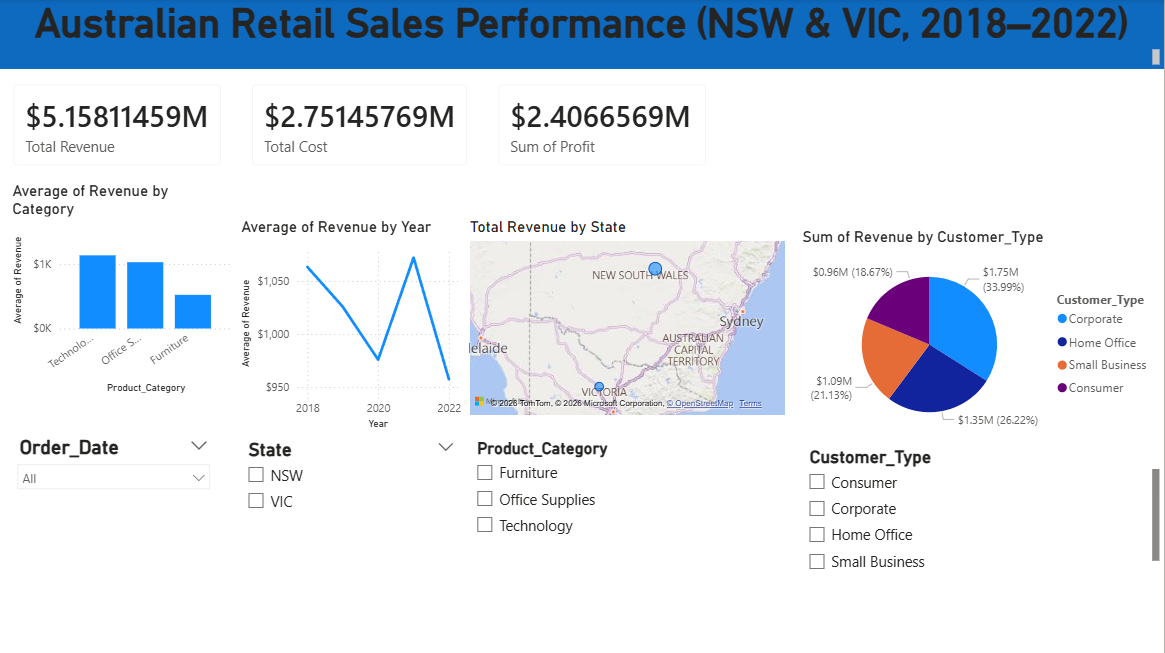

The dashboard page shown, as its layout file describes it:
{"tool":"powerbi","page":{"name":"Sales Overview","canvas":[1280,720],"ordinal":0},"visuals":[{"type":"cardVisual","fields":{"Data":["Sum(vw_Retail_Clean.Revenue)"]},"box":[0,76.8,262.1,123.5],"z":0},{"type":"textbox","title":"Australian Retail Sales Performance (NSW & VIC, 2018–2022)","box":[0,0,1280.3,76.8],"z":1000},{"type":"cardVisual","fields":{"Data":["Sum(vw_Retail_Clean.Cost)"]},"box":[262.1,76.8,270.3,123.5],"z":2000},{"type":"cardVisual","fields":{"Data":["Sum(vw_Retail_Clean.Profit)"]},"box":[532.4,76.8,262.1,123.5],"z":3000},{"type":"clusteredColumnChart","title":"Average of Revenue by Category","fields":{"Category":["vw_Retail_Clean.Product_Category"],"Y":["Avg(vw_Retail_Clean.Revenue)"]},"box":[11,200.3,251.1,237.4],"z":4000},{"type":"lineChart","fields":{"Category":["vw_Retail_Clean.Order_Date.Variation.Date Hierarchy.Year","vw_Retail_Clean.Order_Date.Variation.Date Hierarchy.Quarter","vw_Retail_Clean.Order_Date.Variation.Date Hierarchy.Month","vw_Retail_Clean.Order_Date.Variation.Date Hierarchy.Day"],"Y":["Avg(vw_Retail_Clean.Revenue)"]},"box":[262.1,240.1,251.1,237.4],"z":5000},{"type":"map","title":"Total Revenue by State","fields":{"Category":["vw_Retail_Clean.State"],"Size":["Sum(vw_Retail_Clean.Revenue)"]},"box":[513.2,240.1,355.4,220.9],"z":6000},{"type":"pieChart","fields":{"Category":["vw_Retail_Clean.Customer_Type"],"Y":["Sum(vw_Retail_Clean.Revenue)"]},"box":[877.9,251.1,402.1,236],"z":6001},{"type":"slicer","fields":{"Values":["vw_Retail_Clean.Order_Date"]},"box":[11,474.8,231.9,148.2],"z":6002},{"type":"slicer","fields":{"Values":["vw_Retail_Clean.State"]},"box":[262.1,477.5,251.1,145.5],"z":6003},{"type":"slicer","fields":{"Values":["vw_Retail_Clean.Customer_Type"]},"box":[878.2,487.1,402.1,146.8],"z":6005},{"type":"slicer","fields":{"Values":["vw_Retail_Clean.Product_Category"]},"box":[513,478,355,150],"z":6006}]}

Visuals, with their boxes in screenshot pixels (x1, y1, x2, y2), scaled from the page's 1280x720 canvas onto the 1165x653 screenshot:
cardVisual - Sum(vw_Retail_Clean.Revenue): bbox=[0, 70, 239, 182]
"Australian Retail Sales Performance (NSW & VIC, 2018–2022)" textbox: bbox=[0, 0, 1164, 70]
cardVisual - Sum(vw_Retail_Clean.Cost): bbox=[239, 70, 485, 182]
cardVisual - Sum(vw_Retail_Clean.Profit): bbox=[485, 70, 723, 182]
"Average of Revenue by Category" clusteredColumnChart: bbox=[10, 182, 239, 397]
lineChart - vw_Retail_Clean.Order_Date.Variation.Date Hierarchy.Year x vw_Retail_Clean.Order_Date.Variation.Date Hierarchy.Quarter: bbox=[239, 218, 467, 433]
"Total Revenue by State" map: bbox=[467, 218, 791, 418]
pieChart - vw_Retail_Clean.Customer_Type x Sum(vw_Retail_Clean.Revenue): bbox=[799, 228, 1164, 442]
slicer - vw_Retail_Clean.Order_Date: bbox=[10, 431, 221, 565]
slicer - vw_Retail_Clean.State: bbox=[239, 433, 467, 565]
slicer - vw_Retail_Clean.Customer_Type: bbox=[799, 442, 1164, 575]
slicer - vw_Retail_Clean.Product_Category: bbox=[467, 434, 790, 570]
